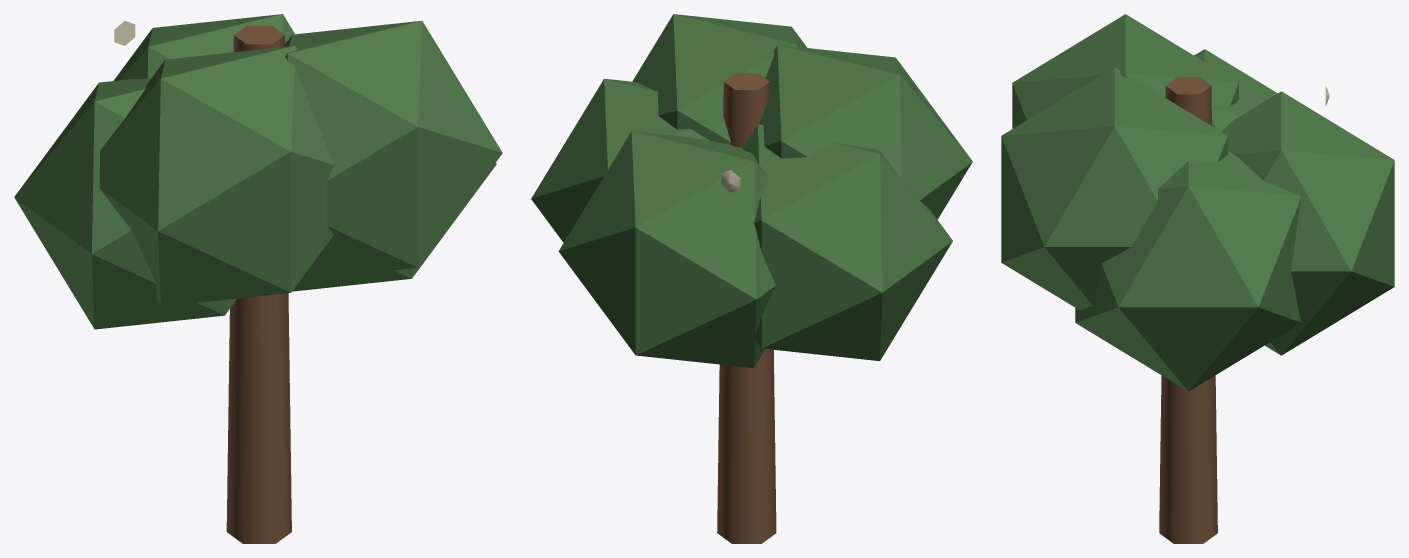
Rendered from crop-apple-tree-stage-3-flowering.source.glb.
3 renders of one model, left to right at view 1: azimuth 30°, elevation 25°; view 2: azimuth 150°, elevation 25°; view 3: azimuth 270°, elevation 25°, orthographic. The views are drawn at different scales.
Parts seen in each view (by area): view 1: canopy-2, canopy-4, canopy-5, trunk, canopy-3, canopy-1; view 2: canopy-3, canopy-5, canopy-2, trunk, canopy-4, canopy-1; view 3: canopy-1, canopy-4, canopy-3, trunk, canopy-2, canopy-5.
Boxes of the visible parts, x1,y1,x2,y2 form: canopy-2: (99,45,333,306); canopy-4: (285,20,502,280); canopy-5: (14,78,237,329); trunk: (226,25,291,543); canopy-3: (113,14,294,80); canopy-1: (292,163,496,291); canopy-3: (558,131,775,367); canopy-5: (742,124,952,360); canopy-2: (741,45,972,219); trunk: (717,73,776,543); canopy-4: (632,14,807,144); canopy-1: (531,78,709,242); canopy-1: (1075,151,1300,391); canopy-4: (1001,67,1227,310); canopy-3: (1221,91,1394,355); trunk: (1159,77,1217,543); canopy-2: (1012,14,1238,128); canopy-5: (1194,49,1277,131).
Size of the model in its own units: 1.79 by 2.21 by 1.71.
